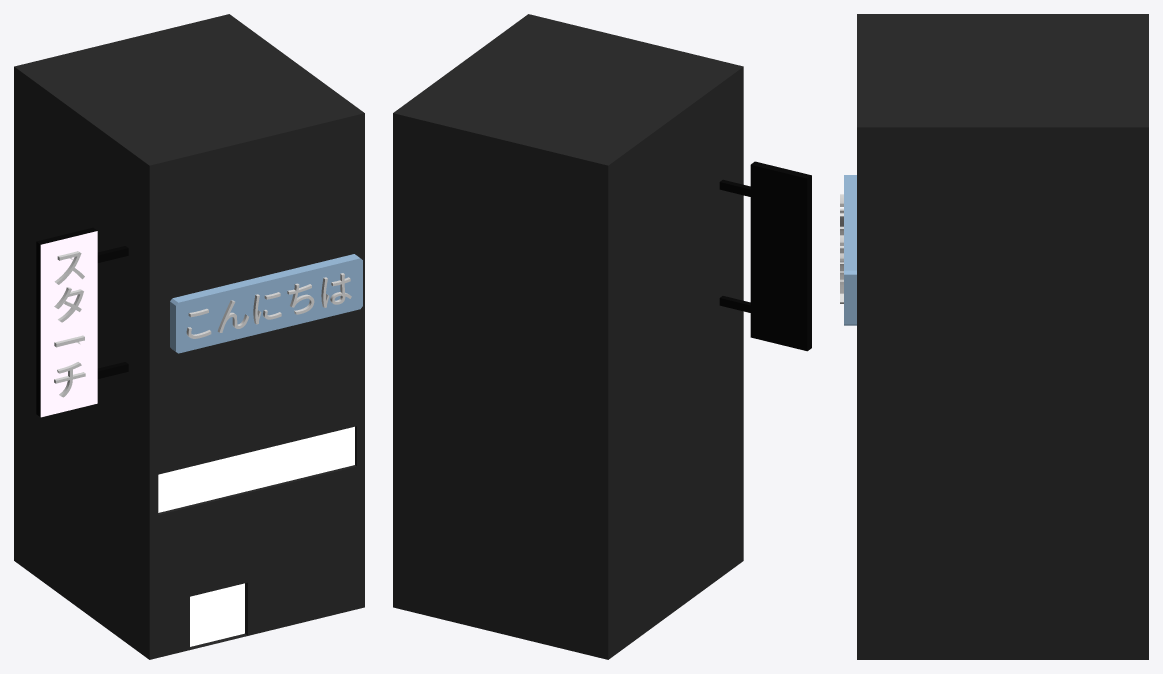
Rendered from edificio.fbx.
3 renders of one model, left to right at view 1: azimuth 30°, elevation 25°; view 2: azimuth 150°, elevation 25°; view 3: azimuth 270°, elevation 25°, orthographic. The views are drawn at different scales.
Visible parts, largest first — view 1: Cube, Text, Text.001; view 2: Cube; view 3: Cube.
Boxes of the visible parts, <box> form: Cube: <box>14,14,364,659</box>; Text: <box>186,273,351,338</box>; Text.001: <box>54,251,85,397</box>; Cube: <box>393,14,811,659</box>; Cube: <box>844,14,1148,659</box>.
Bounding box in the file's own units: 259 × 403 × 212.
